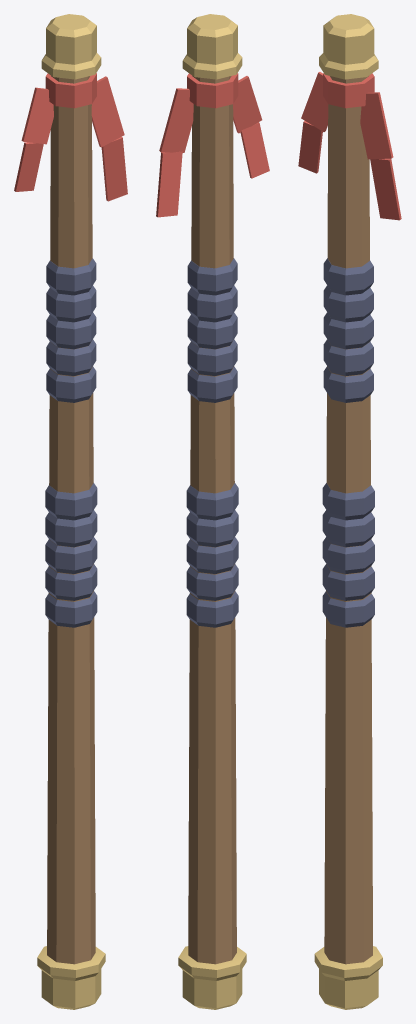
File: Staff.fbx
3 views of the same model, side by side, from view 1: azimuth 30°, elevation 25°; view 2: azimuth 210°, elevation 25°; view 3: azimuth 330°, elevation 25° (orthographic).
Visible parts, largest first — view 1: StaffShaft, StaffWrap, StaffRibbon, StaffFittings; view 2: StaffShaft, StaffWrap, StaffRibbon, StaffFittings; view 3: StaffShaft, StaffWrap, StaffFittings, StaffRibbon.
Part boxes in pixels (x1=…): StaffShaft: x1=47, y1=76, x2=95, y2=964; StaffWrap: x1=45, y1=258, x2=97, y2=627; StaffRibbon: x1=14, y1=73, x2=127, y2=201; StaffFittings: x1=37, y1=14, x2=105, y2=1009; StaffShaft: x1=188, y1=76, x2=236, y2=964; StaffWrap: x1=186, y1=258, x2=238, y2=627; StaffRibbon: x1=156, y1=73, x2=269, y2=217; StaffFittings: x1=178, y1=14, x2=246, y2=1009; StaffShaft: x1=324, y1=76, x2=372, y2=964; StaffWrap: x1=322, y1=258, x2=374, y2=627; StaffFittings: x1=314, y1=14, x2=382, y2=1009; StaffRibbon: x1=298, y1=72, x2=401, y2=220.
Size of the model in its own units: 0.6969 by 6.1 by 0.3603.
